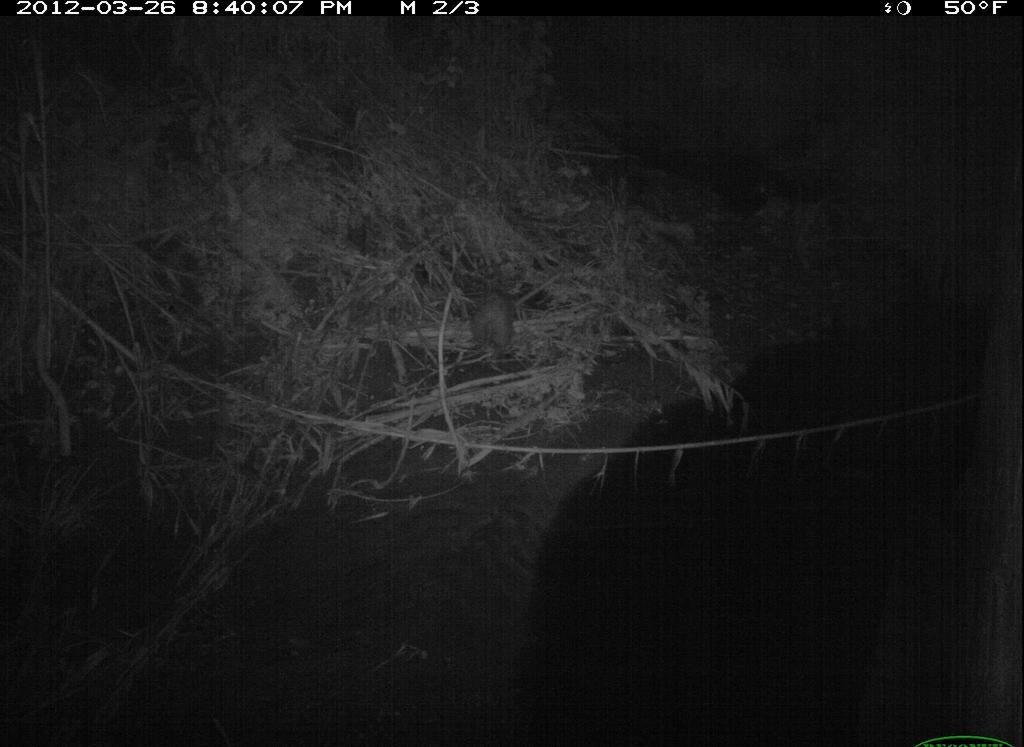opossum: (449, 268, 534, 379)
